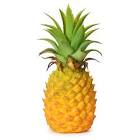Pineapple: (39, 4, 103, 133)
